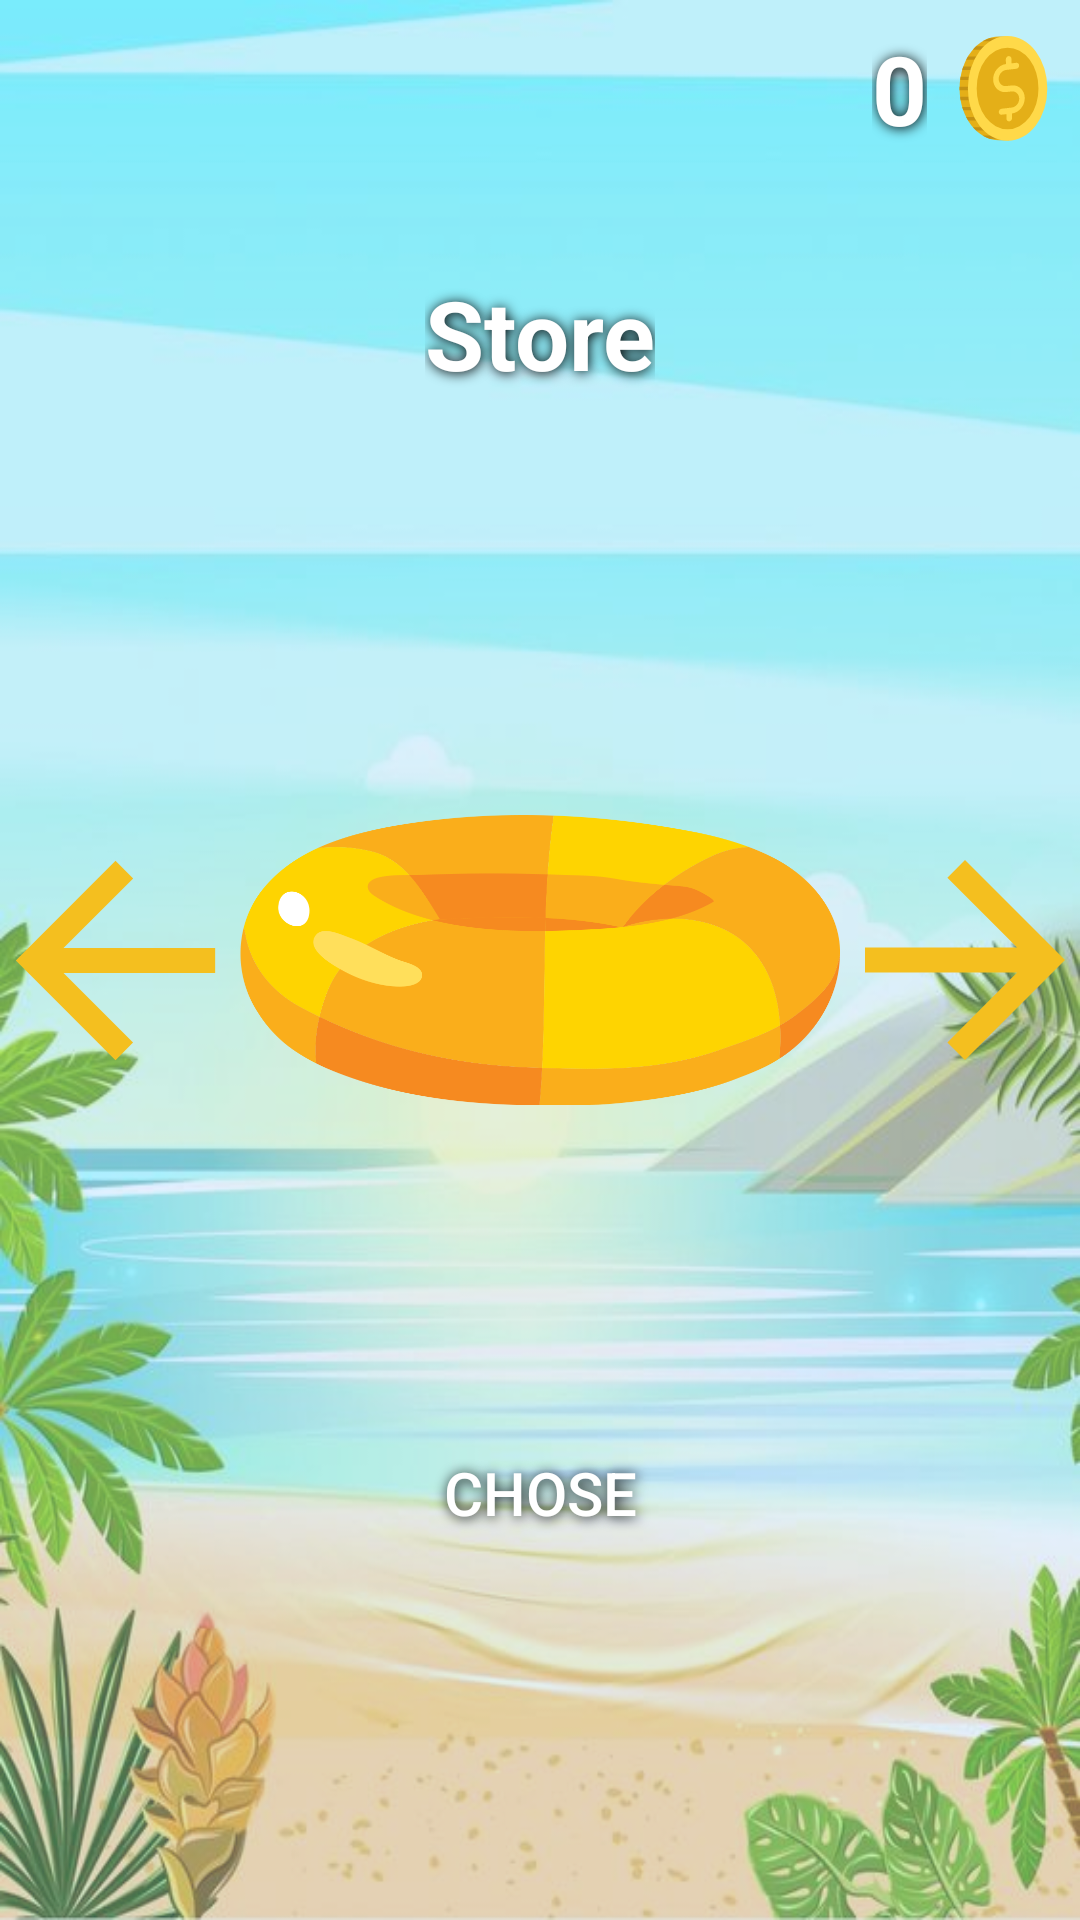

Point at icon controls on the screen. Image size 1080×1920, points as (x=x, y=y).
coin: (x=1003, y=88)
